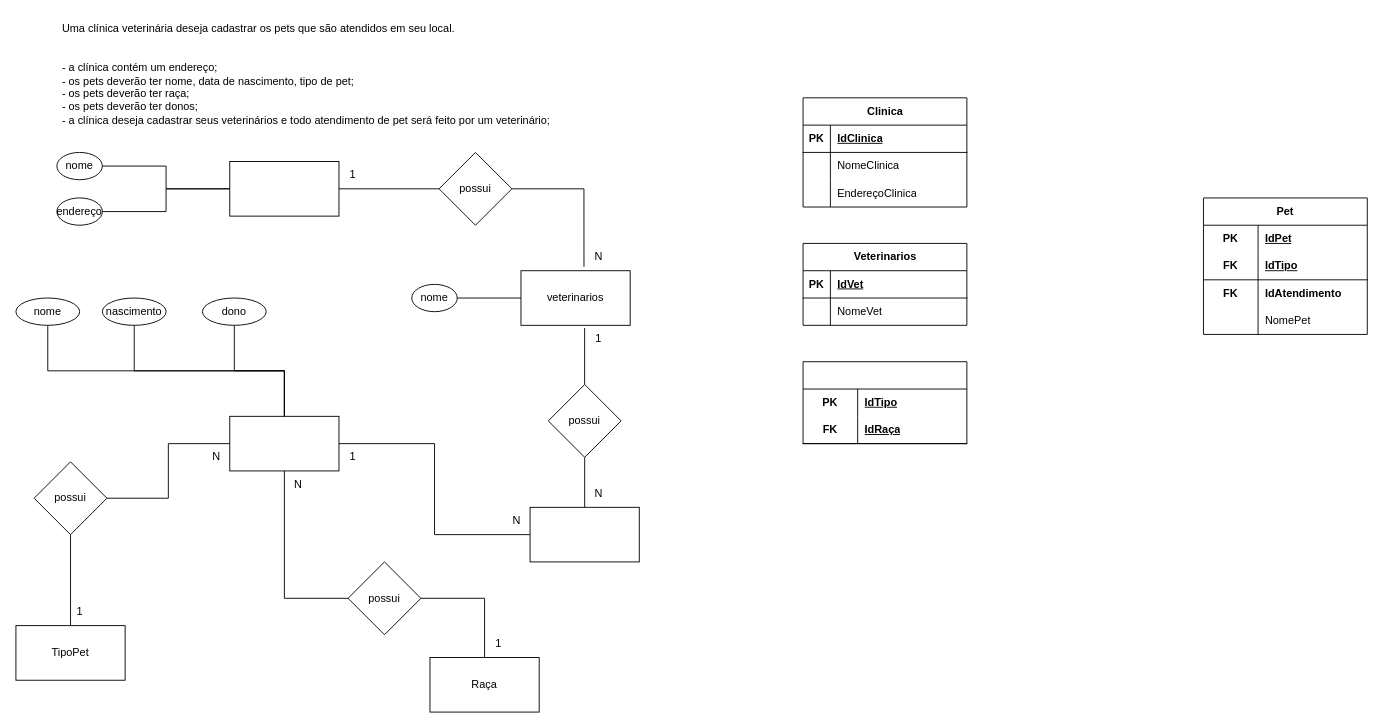
Some shapes in this 1383 by 728 pixel diagram are drawn without their labels. Each missing label, with the box of its shape:
Atendimento: (529, 506, 639, 562)
clínica: (229, 161, 339, 216)
pets: (229, 415, 339, 471)
Tipo de pet: (802, 361, 967, 444)
